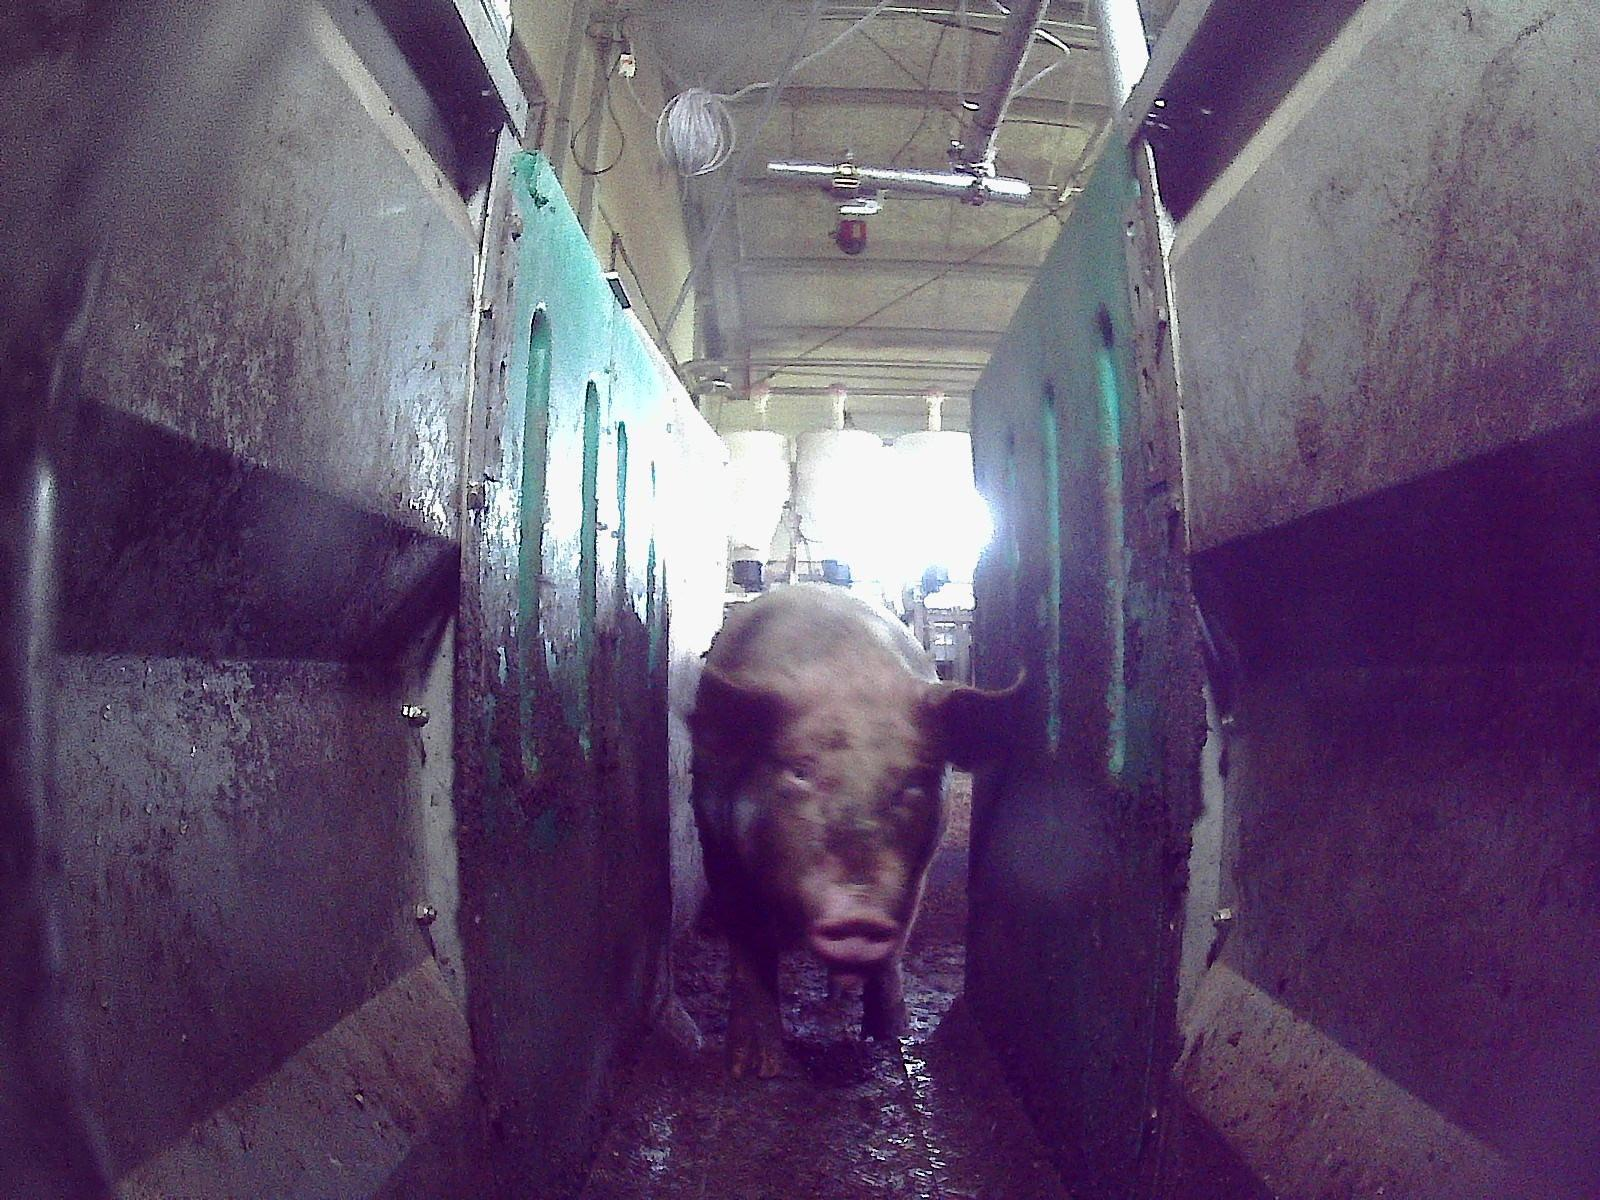Face: (744, 674, 942, 961)
